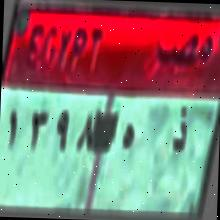1: (4, 104, 20, 166)
3: (26, 103, 49, 164)
8: (76, 110, 94, 164)
9: (52, 104, 70, 160)
haa: (116, 119, 139, 155)
zaal: (170, 104, 190, 157)
